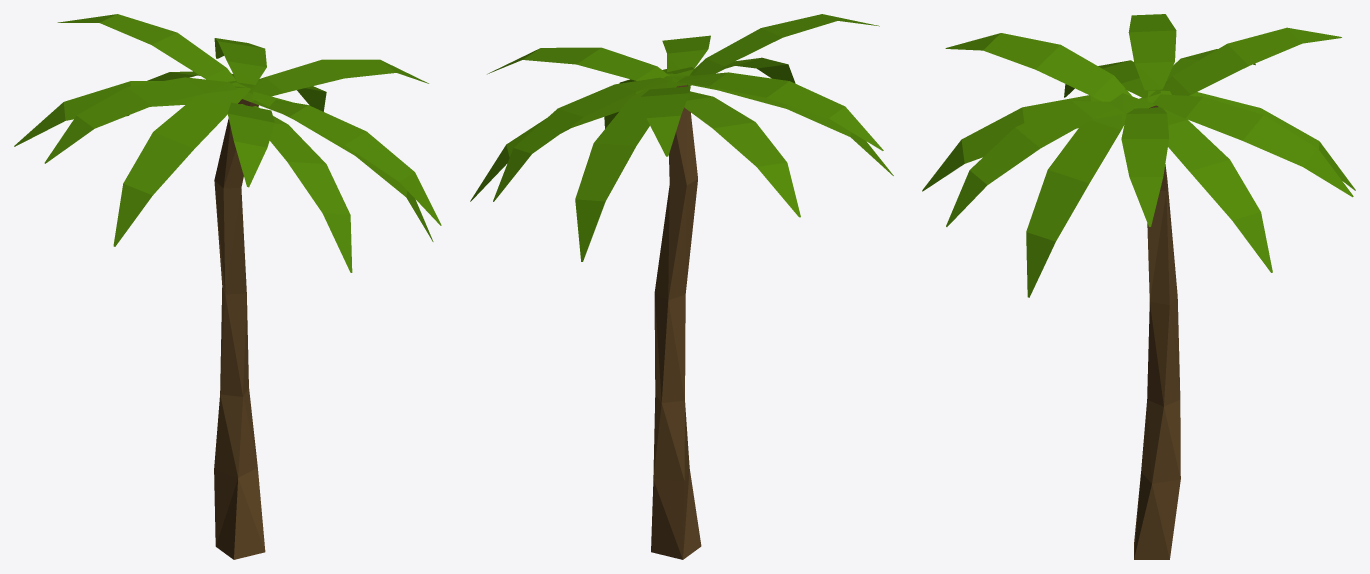
File: trop-rain.average.deepgreen-op1.gltf
3 views of the same model, side by side, from view 1: azimuth 30°, elevation 25°; view 2: azimuth 150°, elevation 25°; view 3: azimuth 270°, elevation 25° (orthographic). The views are drawn at different scales.
Parts seen in each view (by area): view 1: Plane; view 2: Plane; view 3: Plane.
Part boxes in pixels (x1,y1,x2,y2): Plane: (14, 14, 441, 559); Plane: (470, 14, 893, 559); Plane: (922, 14, 1355, 559).
Size of the model in its own units: 0.7642 by 0.9313 by 0.7475.
Materials: 1 (1 with a texture image).
